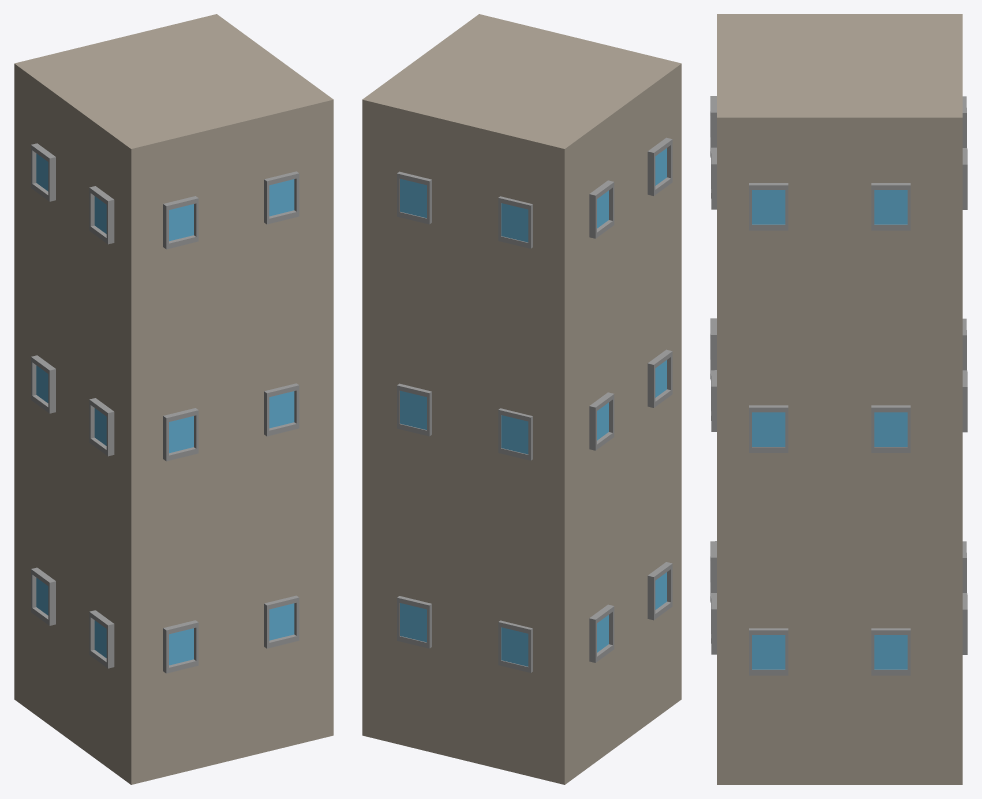
Rendered from House3.fbx.
The picture shows the model from 3 angles, left to right: view 1: azimuth 30°, elevation 25°; view 2: azimuth 150°, elevation 25°; view 3: azimuth 270°, elevation 25°; orthographic projection. The views are drawn at different scales.
Parts seen in each view (by area): view 1: Cube.034, Cube, Cube.017, Cube.015, Cube.035, Cube.018, Cube.039, Cube.022, Cube.003, Cube.041, Cube.005, Cube.024 (+9 smaller); view 2: Cube.034, Cube, Cube.017, Cube.010, Cube.029, Cube.046, Cube.015, Cube.035, Cube.018, Cube.037, Cube.008, Cube.027 (+9 smaller); view 3: Cube.034, Cube, Cube.017, Cube.012, Cube.014, Cube.031, Cube.033, Cube.048, Cube.050, Cube.013, Cube.032, Cube.049 (+3 smaller).
Boxes of the visible parts, left/top/right/bottom form: Cube.034: left=14, top=14, right=333, bottom=360; Cube: left=14, top=488, right=333, bottom=784; Cube.017: left=14, top=276, right=333, bottom=572; Cube.015: left=89, top=610, right=114, bottom=668; Cube.035: left=89, top=186, right=114, bottom=244; Cube.018: left=89, top=398, right=114, bottom=456; Cube.039: left=264, top=171, right=299, bottom=224; Cube.022: left=264, top=383, right=299, bottom=436; Cube.003: left=264, top=595, right=299, bottom=648; Cube.041: left=163, top=196, right=198, bottom=249; Cube.005: left=163, top=620, right=198, bottom=673; Cube.024: left=163, top=408, right=198, bottom=461; Cube.034: left=362, top=14, right=681, bottom=360; Cube: left=362, top=487, right=681, bottom=784; Cube.017: left=362, top=276, right=681, bottom=572; Cube.010: left=501, top=627, right=528, bottom=666; Cube.029: left=501, top=415, right=528, bottom=454; Cube.046: left=501, top=203, right=528, bottom=242; Cube.015: left=647, top=562, right=672, bottom=620; Cube.035: left=647, top=137, right=672, bottom=195; Cube.018: left=647, top=349, right=672, bottom=407; Cube.037: left=589, top=180, right=614, bottom=238; Cube.008: left=400, top=603, right=426, bottom=642; Cube.027: left=400, top=390, right=426, bottom=429; Cube.034: left=717, top=14, right=962, bottom=340; Cube: left=717, top=562, right=962, bottom=784; Cube.017: left=717, top=340, right=962, bottom=562; Cube.012: left=752, top=635, right=785, bottom=669; Cube.014: left=874, top=635, right=907, bottom=669; Cube.031: left=752, top=412, right=785, bottom=446; Cube.033: left=874, top=412, right=907, bottom=446; Cube.048: left=752, top=190, right=785, bottom=224; Cube.050: left=874, top=190, right=907, bottom=224; Cube.013: left=871, top=628, right=910, bottom=675; Cube.032: left=871, top=405, right=910, bottom=452; Cube.049: left=871, top=183, right=910, bottom=230.
Bounding box in the file's own units: 211 × 600 × 210.
